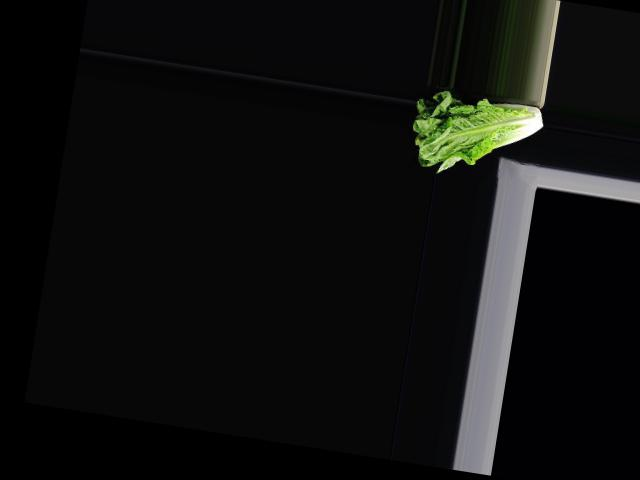lettuce: (404, 85, 547, 187)
